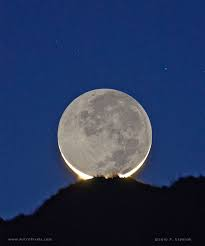moon: (55, 87, 153, 181)
